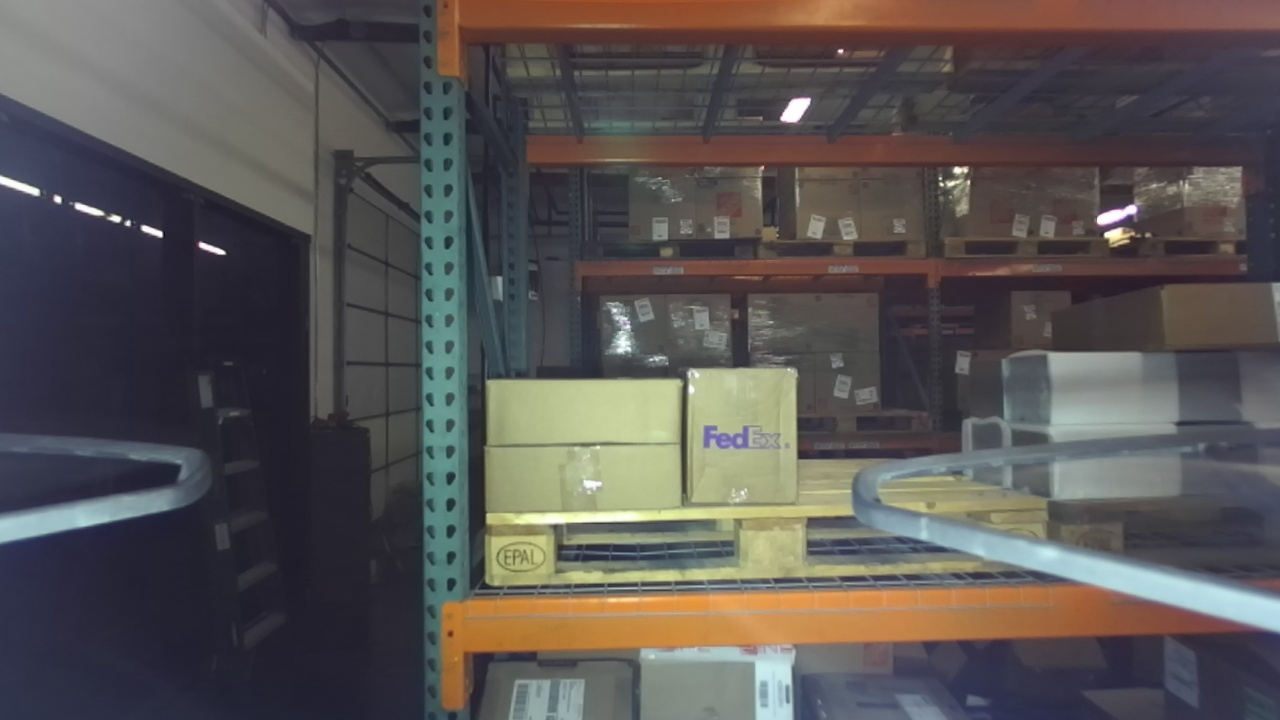box: (674, 355, 808, 519), (477, 370, 692, 460), (476, 436, 696, 516)
